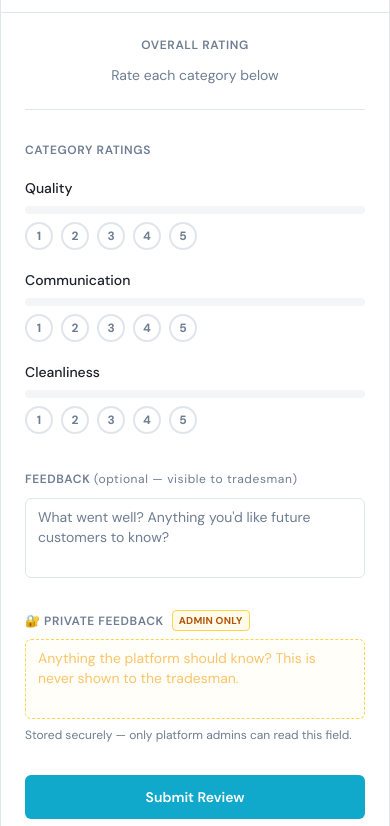
Test: ReviewMediator — validation › clears a category error when the user rates that category
The image size is (390, 826).
(page scrolled)
# trigger validation
Click the button "Submit Review" at (195, 797), box left=25, top=775, right=365, bottom=819
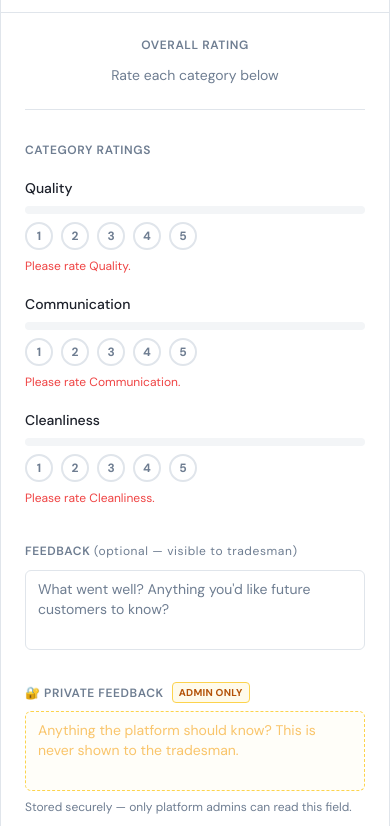
Check: the text "Please rate Quality." is shown, box left=25, top=258, right=130, bottom=274
# rate Quality by clicking the "1" dot
Click the button named "score 1" at (39, 236), box left=25, top=222, right=53, bottom=250
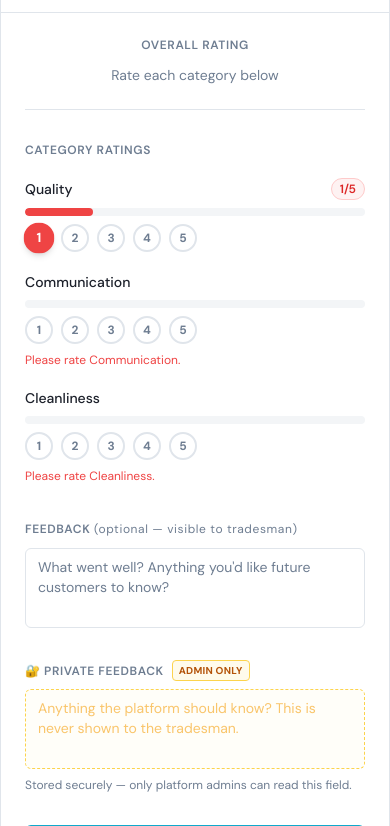
Check: the text "Please rate Communication." is shown, box left=25, top=352, right=180, bottom=368
Check: the text "Please rate Quality" is gone
